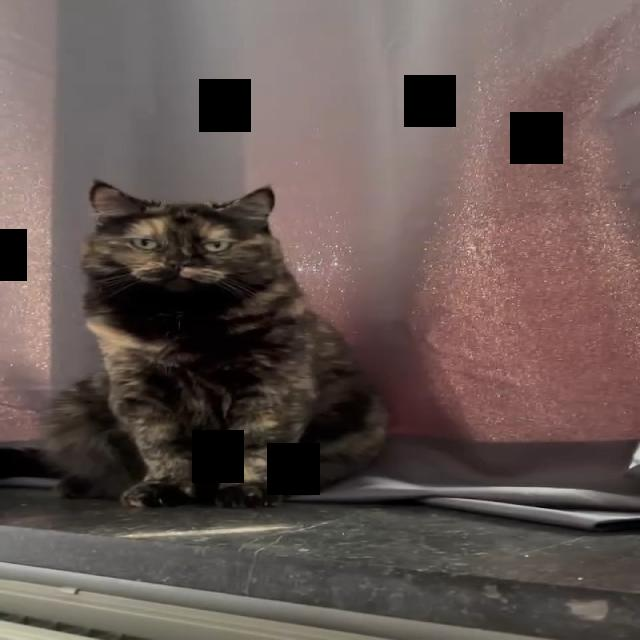authorized: (37, 178, 391, 509)
